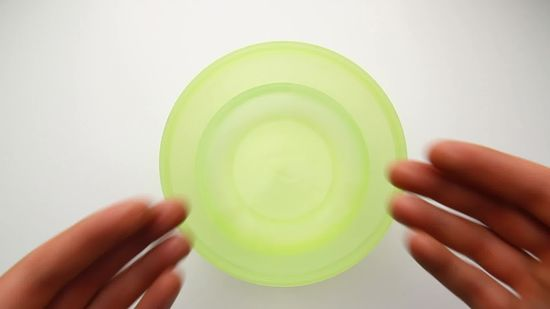finger: (1, 194, 148, 305), (385, 161, 540, 251), (391, 185, 524, 287), (62, 203, 191, 301), (438, 129, 545, 215), (404, 237, 529, 304), (92, 234, 198, 303), (134, 274, 184, 308)
